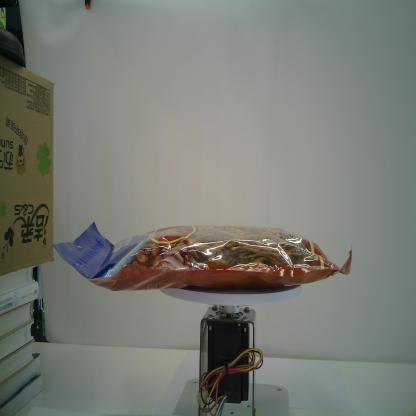Dried Food: (49, 219, 355, 294)
